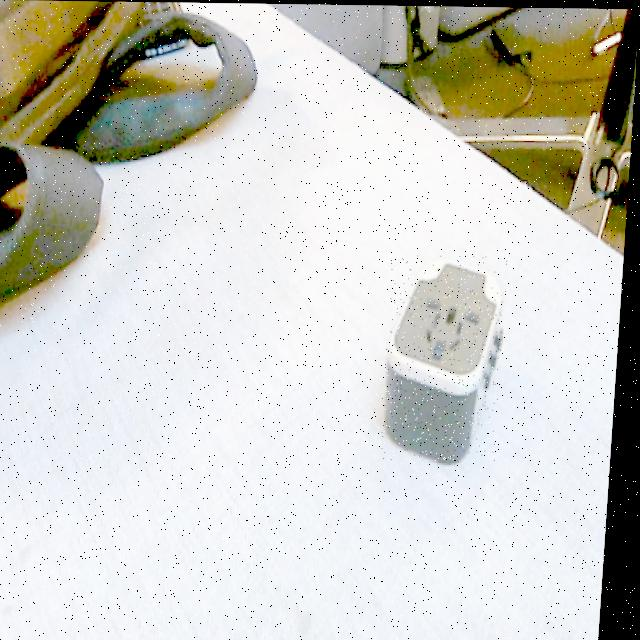adapter: (384, 254, 512, 462)
